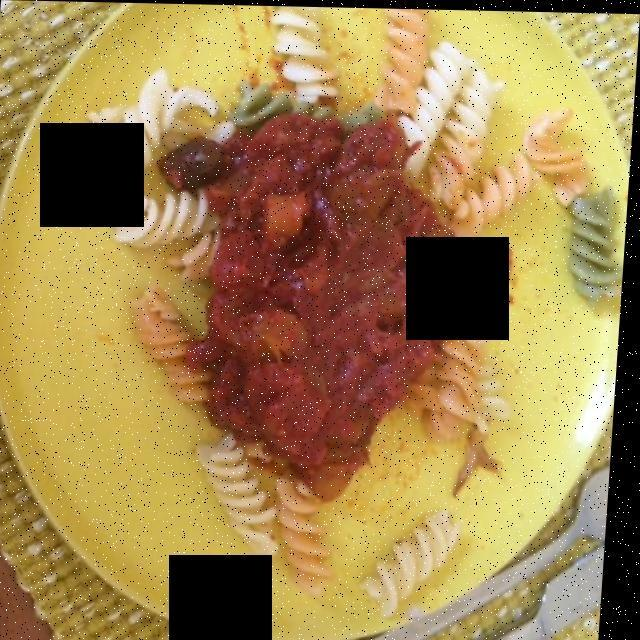pasta: (127, 39, 568, 557)
tomato-sauce: (175, 115, 462, 496)
